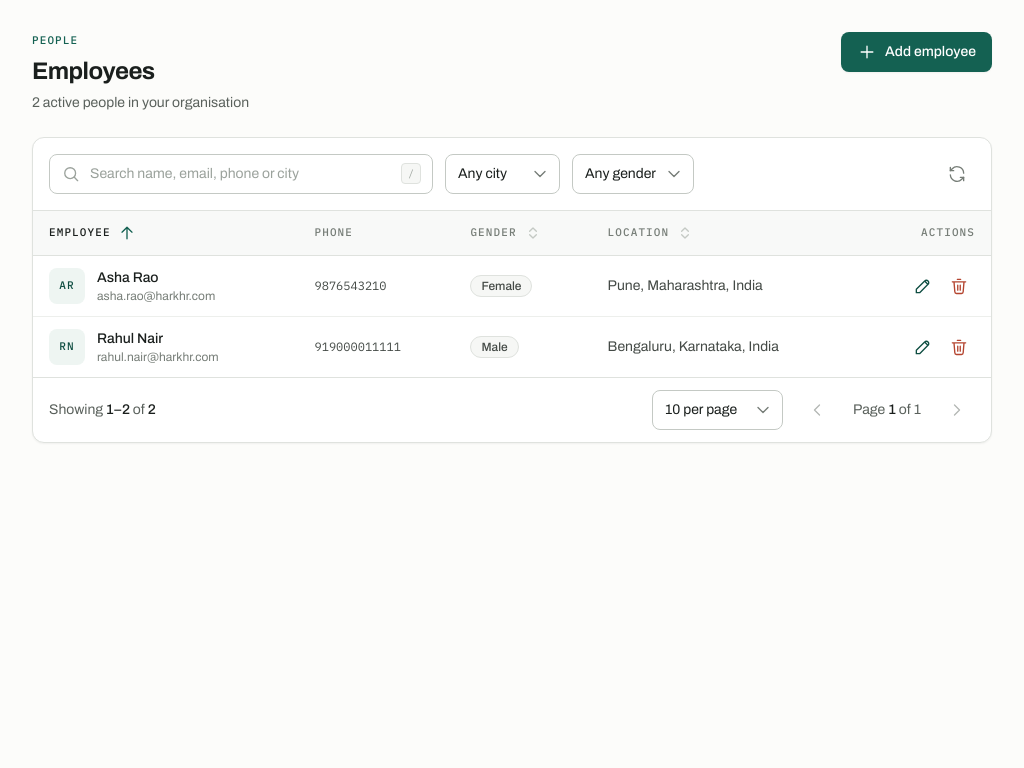
Test: EmployeesPage — deleting › does nothing at all when the confirmation is cancelled
The width and height of the screenshot is (1024, 768).
Expected: the heading "Employees" is shown, [32, 58, 155, 84]
Expected: the button "Asha Rao" is shown, [97, 268, 158, 288]
Click the button named "Delete Rahul Nair": click(959, 346) [943, 330, 975, 362]
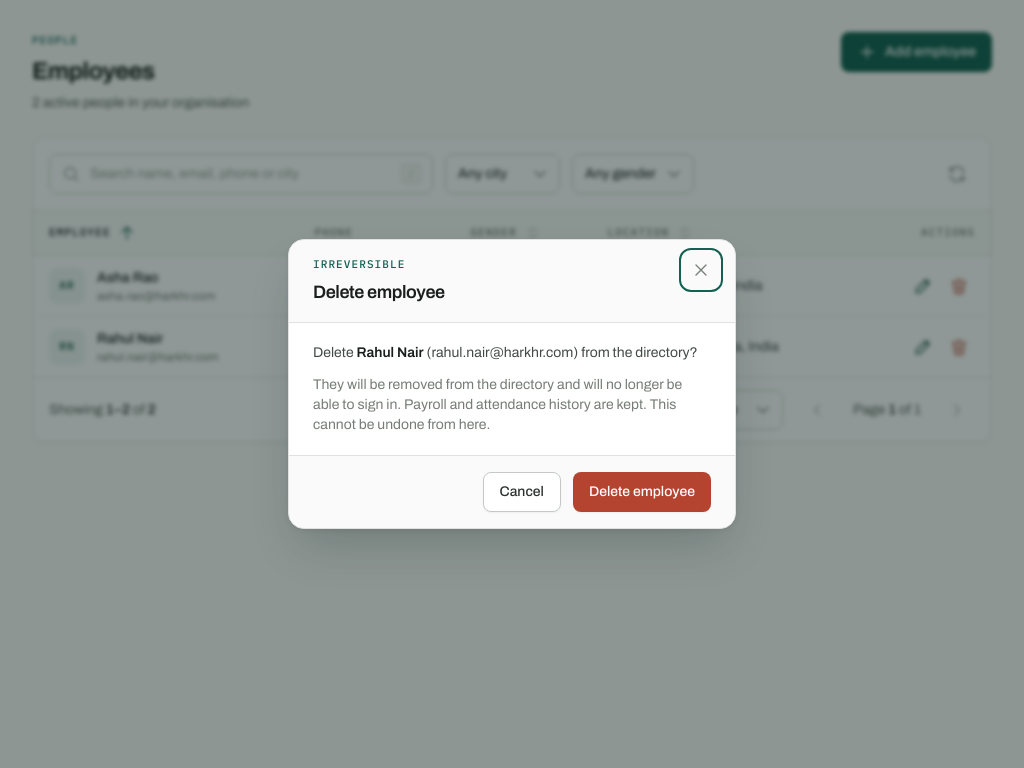
Click the button "Cancel": click(522, 492) [482, 472, 561, 512]
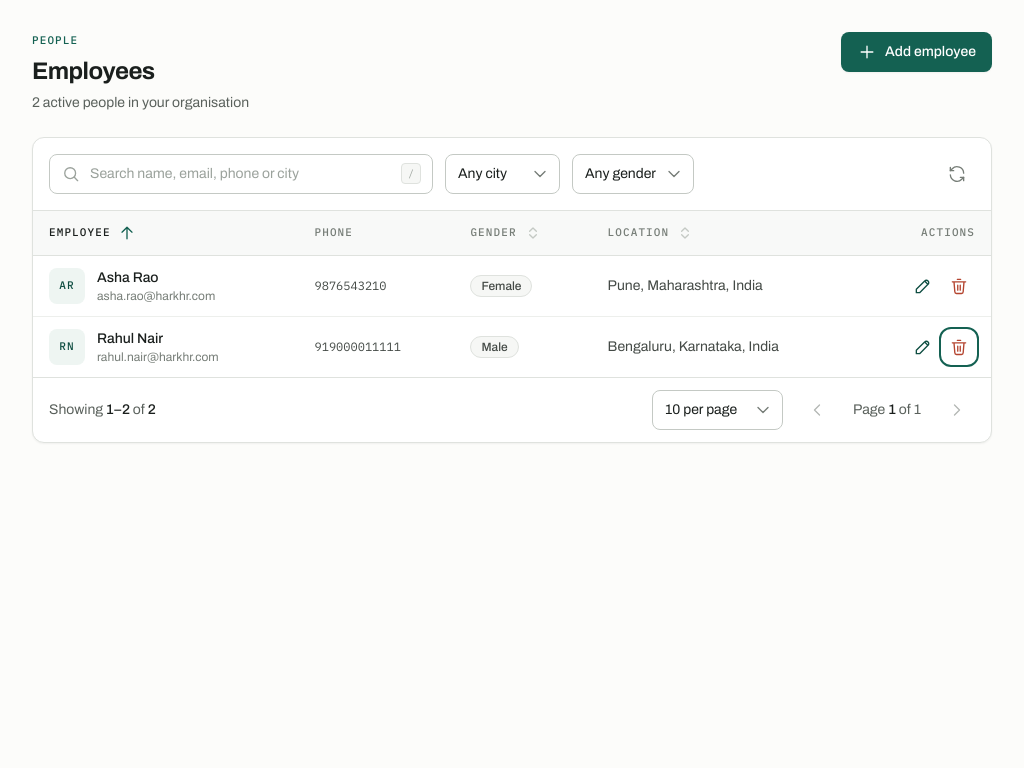
Expected: the button "Rahul Nair" is shown, [97, 328, 163, 348]
Result: the dialog is gone
